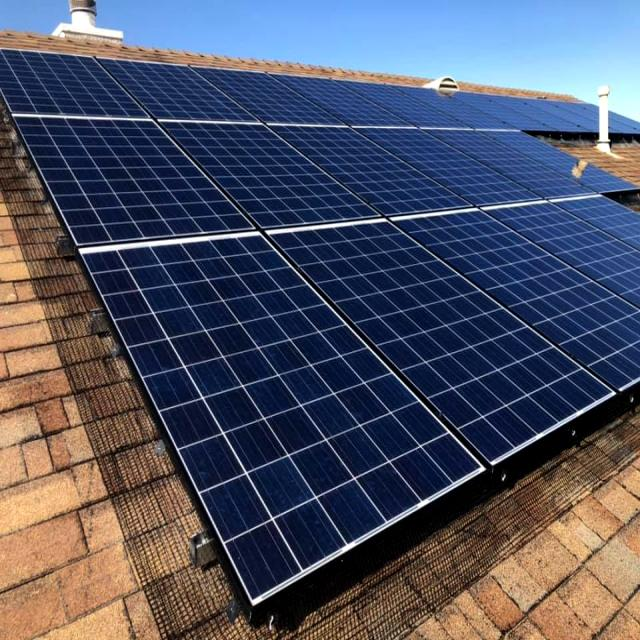crack: (67, 228, 493, 631), (251, 209, 632, 528), (393, 194, 640, 392), (2, 114, 256, 264), (148, 104, 379, 240), (269, 102, 474, 244), (88, 35, 278, 156), (353, 106, 534, 224), (189, 46, 355, 144), (438, 117, 592, 211), (268, 56, 427, 146)
